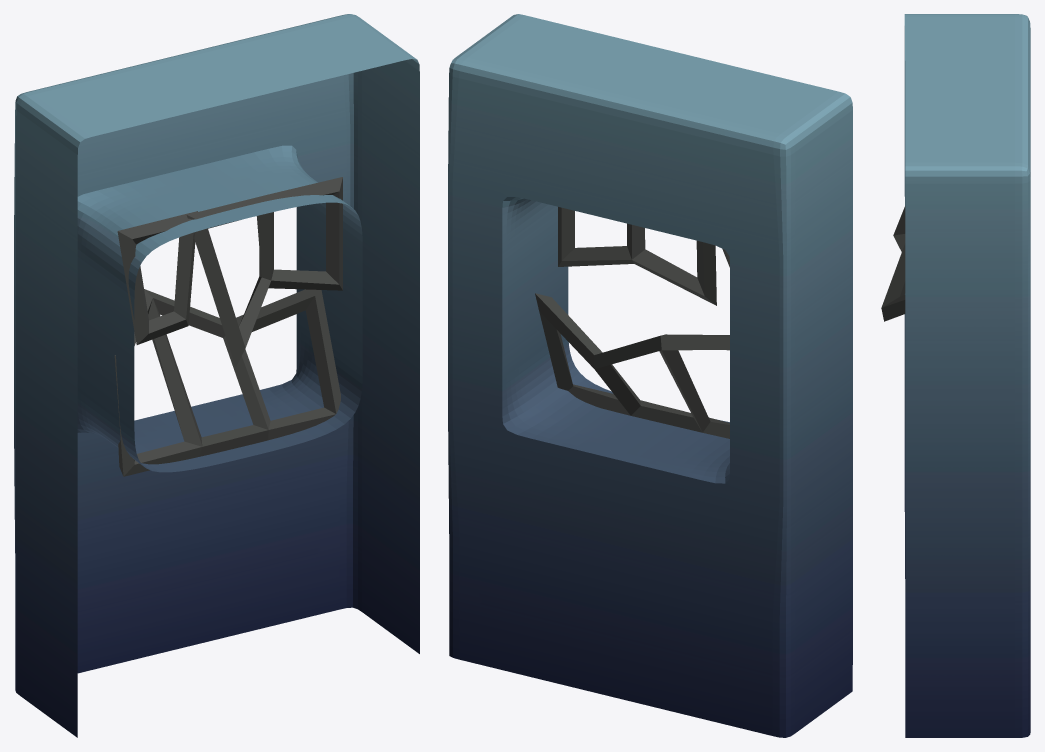
File: Pared-2.fbx
3 renders of one model, left to right at view 1: azimuth 30°, elevation 25°; view 2: azimuth 150°, elevation 25°; view 3: azimuth 270°, elevation 25°, orthographic. The views are drawn at different scales.
Visible parts, largest first — view 1: Pared con ventana.001, Plane.011; view 2: Pared con ventana.001, Plane.011; view 3: Pared con ventana.001, Plane.011.
Part boxes in pixels (x1=…): Pared con ventana.001: x1=14, y1=14, x2=419, y2=737; Plane.011: x1=114, y1=177, x2=342, y2=476; Pared con ventana.001: x1=448, y1=14, x2=852, y2=737; Plane.011: x1=535, y1=207, x2=729, y2=438; Pared con ventana.001: x1=904, y1=14, x2=1030, y2=737; Plane.011: x1=881, y1=206, x2=905, y2=321.
Bounding box in the file's own units: 599 × 1000 × 238.
